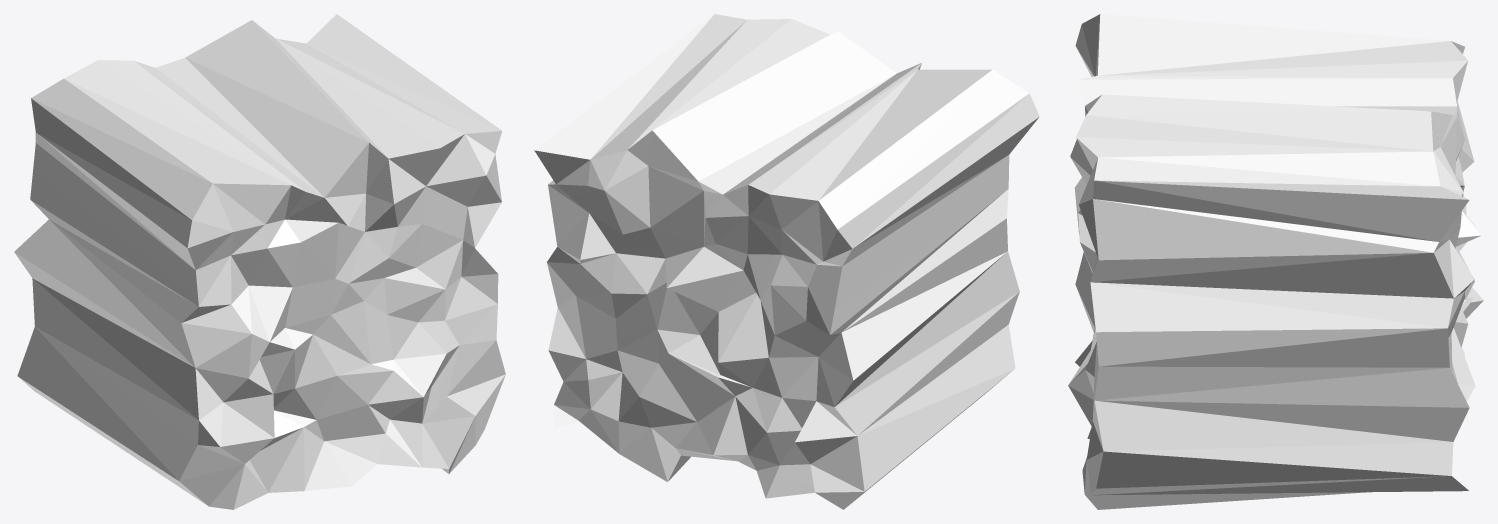
The model's file is Wall.obj.
3 renders of one model, left to right at view 1: azimuth 30°, elevation 25°; view 2: azimuth 150°, elevation 25°; view 3: azimuth 270°, elevation 25°, orthographic. The views are drawn at different scales.
Parts seen in each view (by area): view 1: Cube; view 2: Cube; view 3: Cube.
Boxes of the visible parts, x1,y1,x2,y2 form: Cube: [14, 14, 505, 509]; Cube: [534, 14, 1039, 509]; Cube: [1068, 14, 1483, 509].
Size of the model in its own units: 1 by 1 by 1.
Materials: 1 (1 with a texture image).
